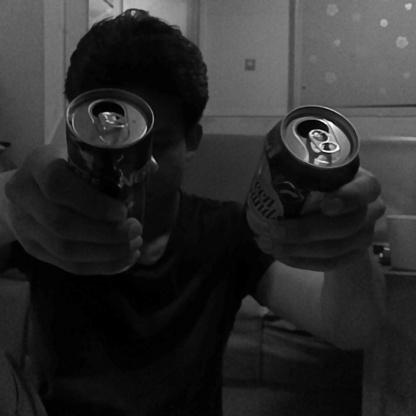alumunium_can: (245, 103, 360, 246), (65, 86, 153, 214)
